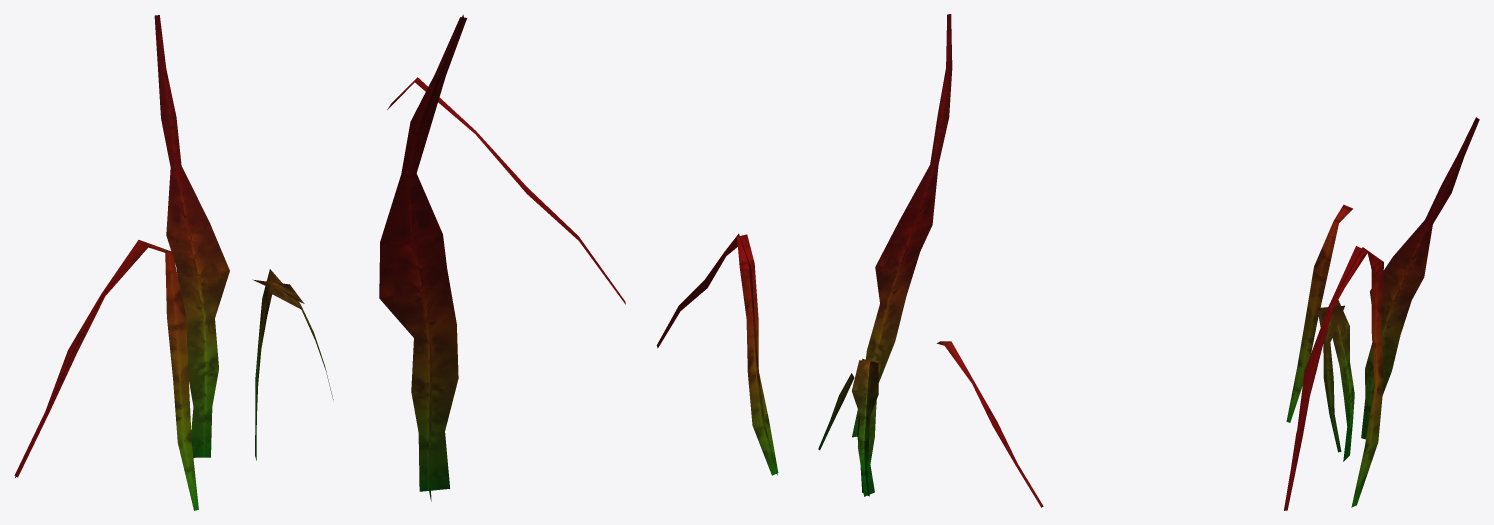
The model's file is White Everlasting_LOD1_Var10_ucvobbbia.glb.
The picture shows the model from 3 angles, left to right: view 1: azimuth 30°, elevation 25°; view 2: azimuth 150°, elevation 25°; view 3: azimuth 270°, elevation 25°; orthographic projection. The views are drawn at different scales.
Visible parts, largest first — view 1: _b142_Var10_LOD1; view 2: _b142_Var10_LOD1; view 3: _b142_Var10_LOD1.
Part boxes in pixels (left/top/right/bottom): _b142_Var10_LOD1: left=14, top=14, right=625, bottom=510; _b142_Var10_LOD1: left=656, top=14, right=1043, bottom=507; _b142_Var10_LOD1: left=1284, top=117, right=1479, bottom=510.
Bounding box in the file's own units: 0.3052 × 0.2791 × 0.2208.
1 material, 1 textured.
